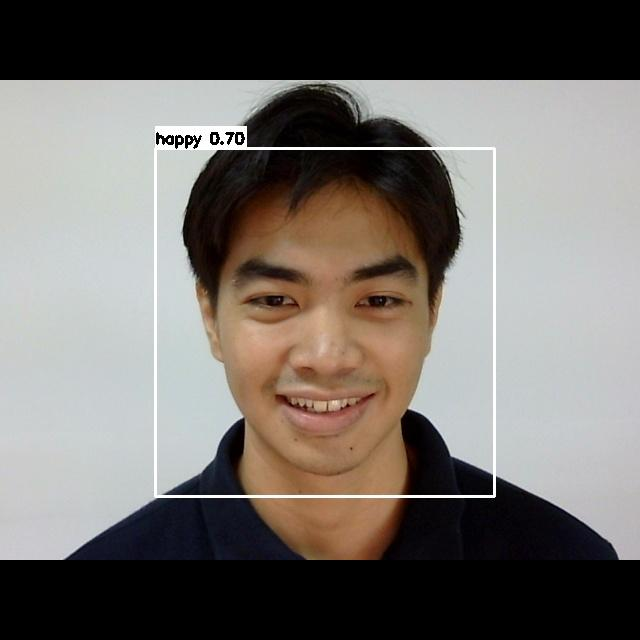Happy: (218, 241, 426, 446)
